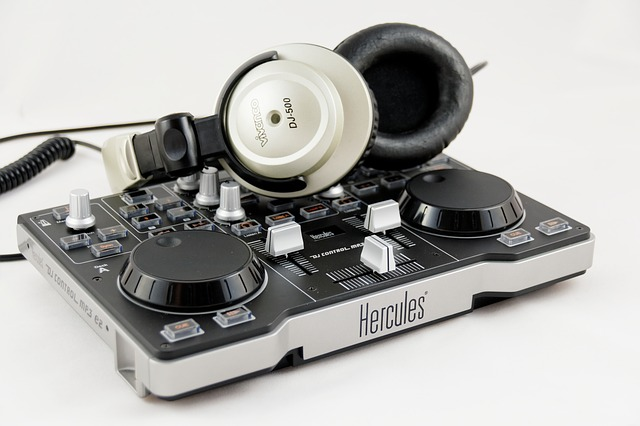headphones: (102, 22, 474, 198)
